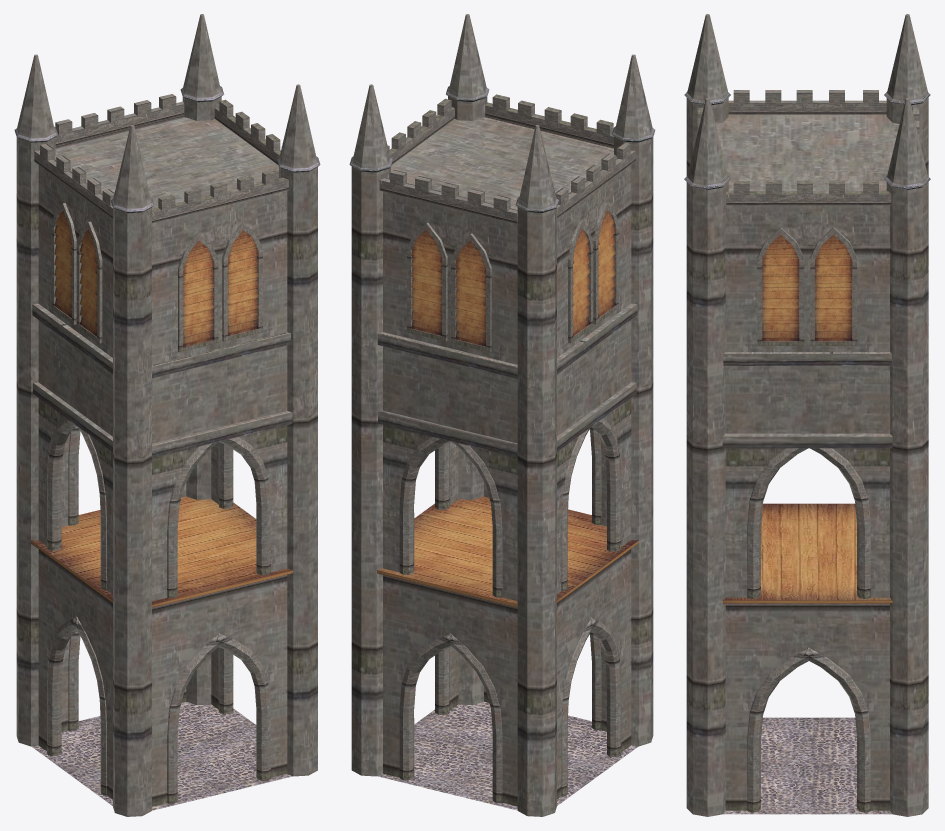
File: ChurchCentre.obj
3 views of the same model, side by side, from view 1: azimuth 30°, elevation 25°; view 2: azimuth 150°, elevation 25°; view 3: azimuth 270°, elevation 25° (orthographic). The views are drawn at different scales.
Visible parts, largest first — view 1: churchWall, floor, cobble, fadewood; view 2: churchWall, floor, cobble, fadewood; view 3: churchWall, floor, cobble, fadewood.
Boxes of the visible parts, x1=… form: churchWall: x1=16, y1=14, x2=317, y2=816; floor: x1=31, y1=211, x2=292, y2=607; cobble: x1=31, y1=702, x2=292, y2=810; fadewood: x1=14, y1=86, x2=320, y2=213; churchWall: x1=351, y1=14, x2=653, y2=816; floor: x1=377, y1=210, x2=638, y2=607; cobble: x1=377, y1=701, x2=637, y2=810; fadewood: x1=349, y1=86, x2=655, y2=212; churchWall: x1=686, y1=14, x2=928, y2=816; floor: x1=722, y1=234, x2=892, y2=603; cobble: x1=723, y1=717, x2=892, y2=814; fadewood: x1=684, y1=92, x2=930, y2=189.
Size of the model in its own units: 81.79 by 260 by 82.04.
Materials: 4 (4 with a texture image).
